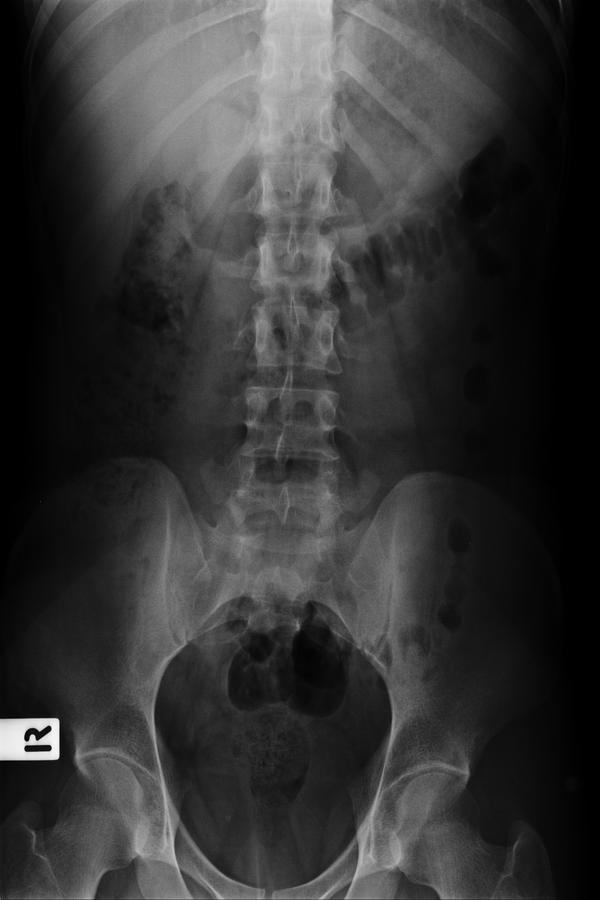not lumbar scoliosis: (234, 183, 348, 570)
